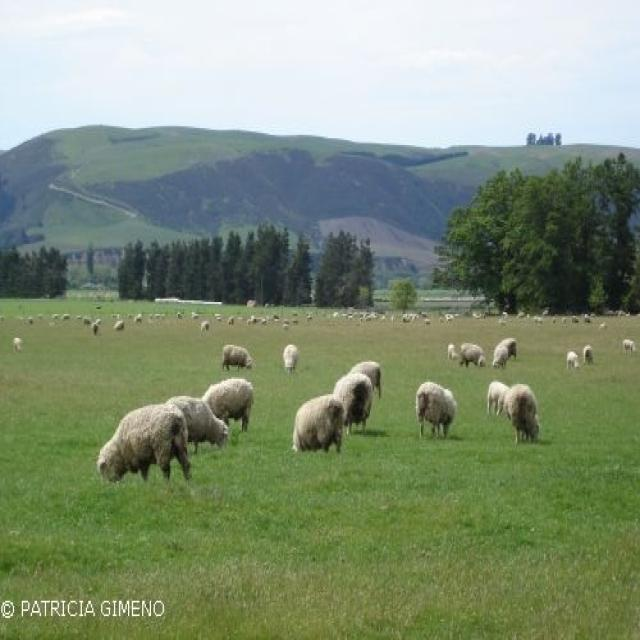sheep: (94, 404, 186, 486), (161, 394, 228, 458), (289, 394, 347, 458), (412, 377, 461, 442), (204, 376, 256, 434), (330, 374, 374, 435), (507, 382, 544, 447), (216, 338, 258, 375), (351, 358, 385, 403), (484, 379, 511, 420), (489, 338, 521, 370), (457, 338, 488, 370), (280, 343, 304, 374)
